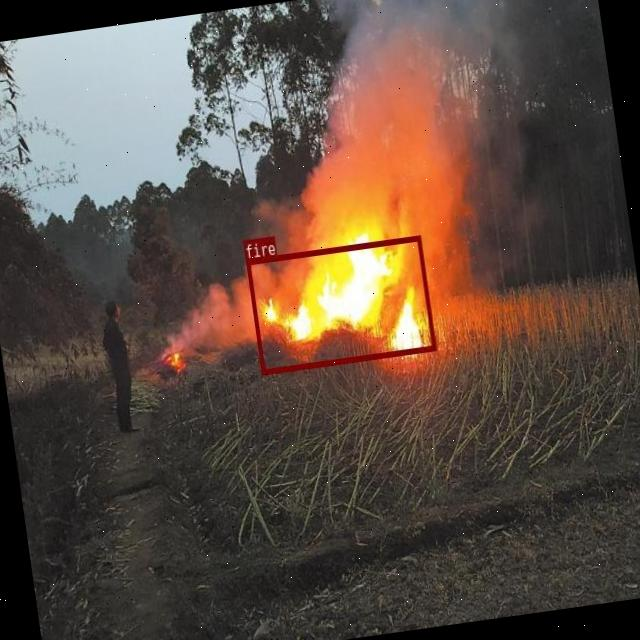fire: (246, 234, 435, 374)
